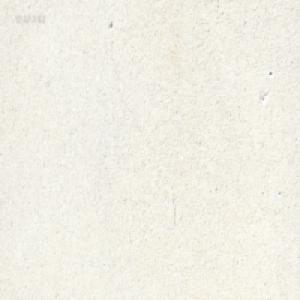Wrench: (169, 0, 176, 5)
